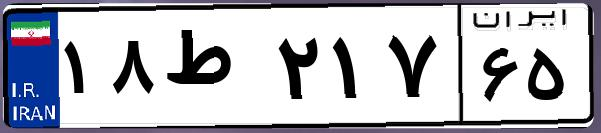1: (330, 28, 385, 110), (57, 26, 110, 100)
2: (270, 28, 330, 110)
5: (525, 38, 570, 115)
6: (475, 38, 525, 113)
7: (385, 28, 445, 110)
8: (110, 28, 158, 98)
ط: (158, 20, 270, 120)
